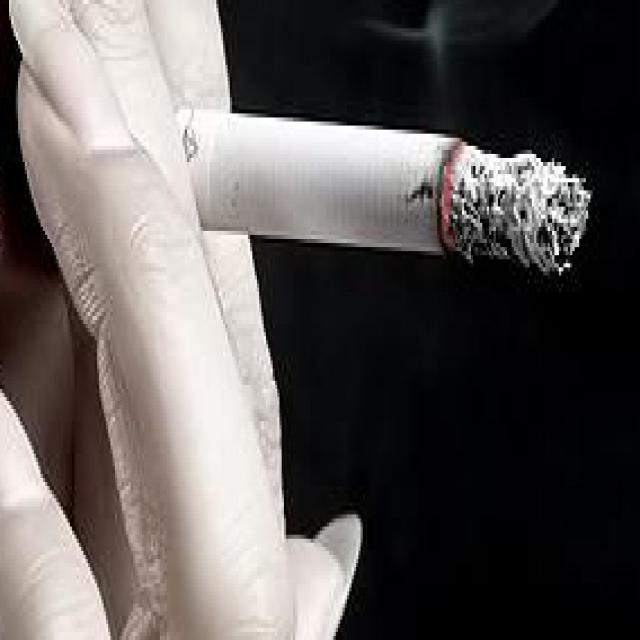smoking: (167, 107, 589, 272)
